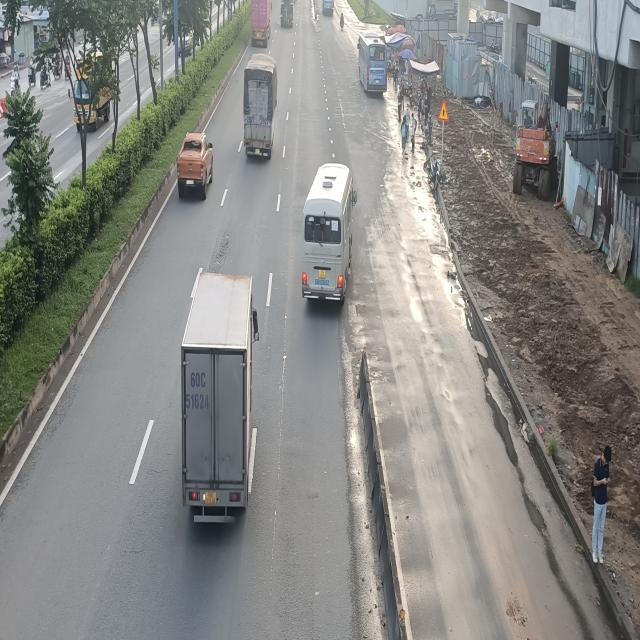car: (178, 132, 215, 199)
coach: (300, 163, 358, 306), (356, 31, 386, 96)
container: (251, 0, 272, 45)
truck: (183, 270, 260, 529), (243, 54, 278, 158)
